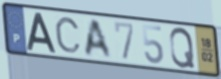5: (141, 23, 165, 66)
7: (112, 20, 136, 62)
A: (25, 11, 58, 54), (83, 18, 113, 60)
C: (54, 16, 83, 55)
Q: (168, 26, 196, 69)
